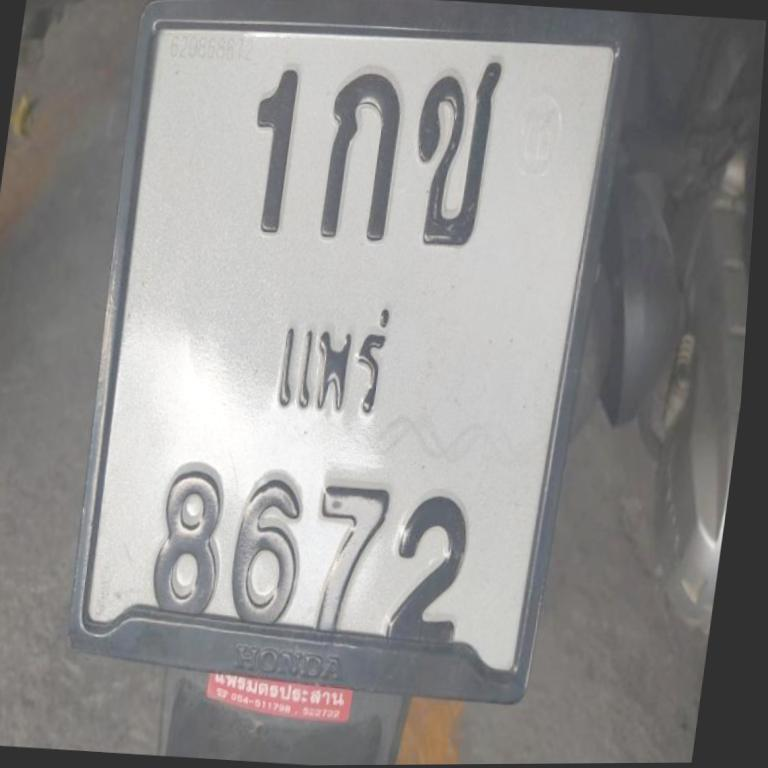license plate: (38, 0, 633, 701)
